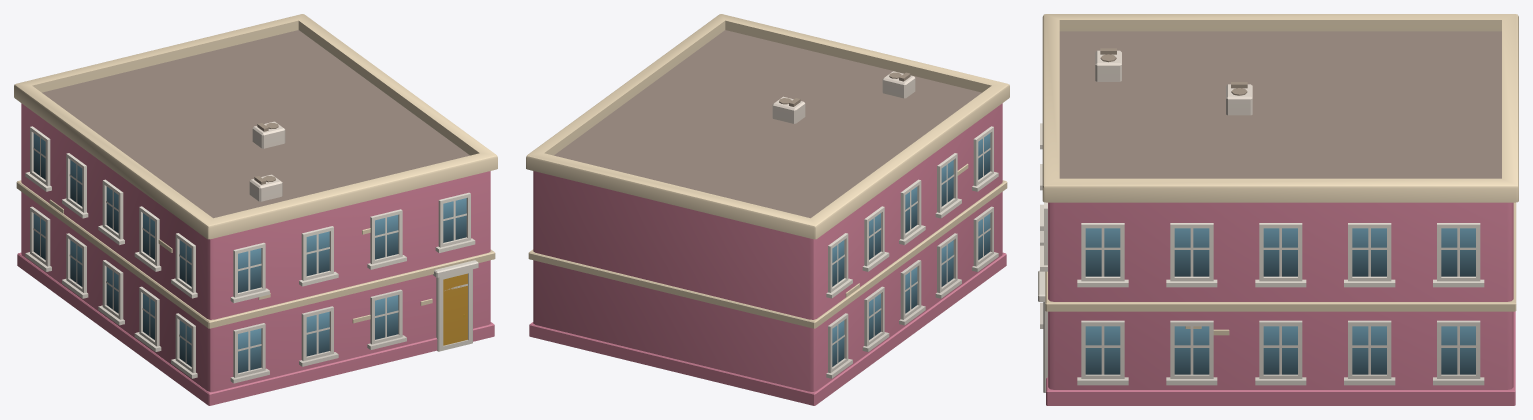
Rendered from boylston_s17.glb.
3 views of the same model, side by side, from view 1: azimuth 30°, elevation 25°; view 2: azimuth 150°, elevation 25°; view 3: azimuth 270°, elevation 25° (orthographic). The views are drawn at different scales.
Visible parts, largest first — view 1: boylston_s17; view 2: boylston_s17; view 3: boylston_s17.
Boxes of the visible parts, bbox=[...] form: boylston_s17: bbox=[14, 14, 497, 405]; boylston_s17: bbox=[526, 14, 1009, 405]; boylston_s17: bbox=[1038, 14, 1518, 405].
Size of the model in its own units: 12.48 by 7.71 by 14.46.
1 material, 1 textured.
